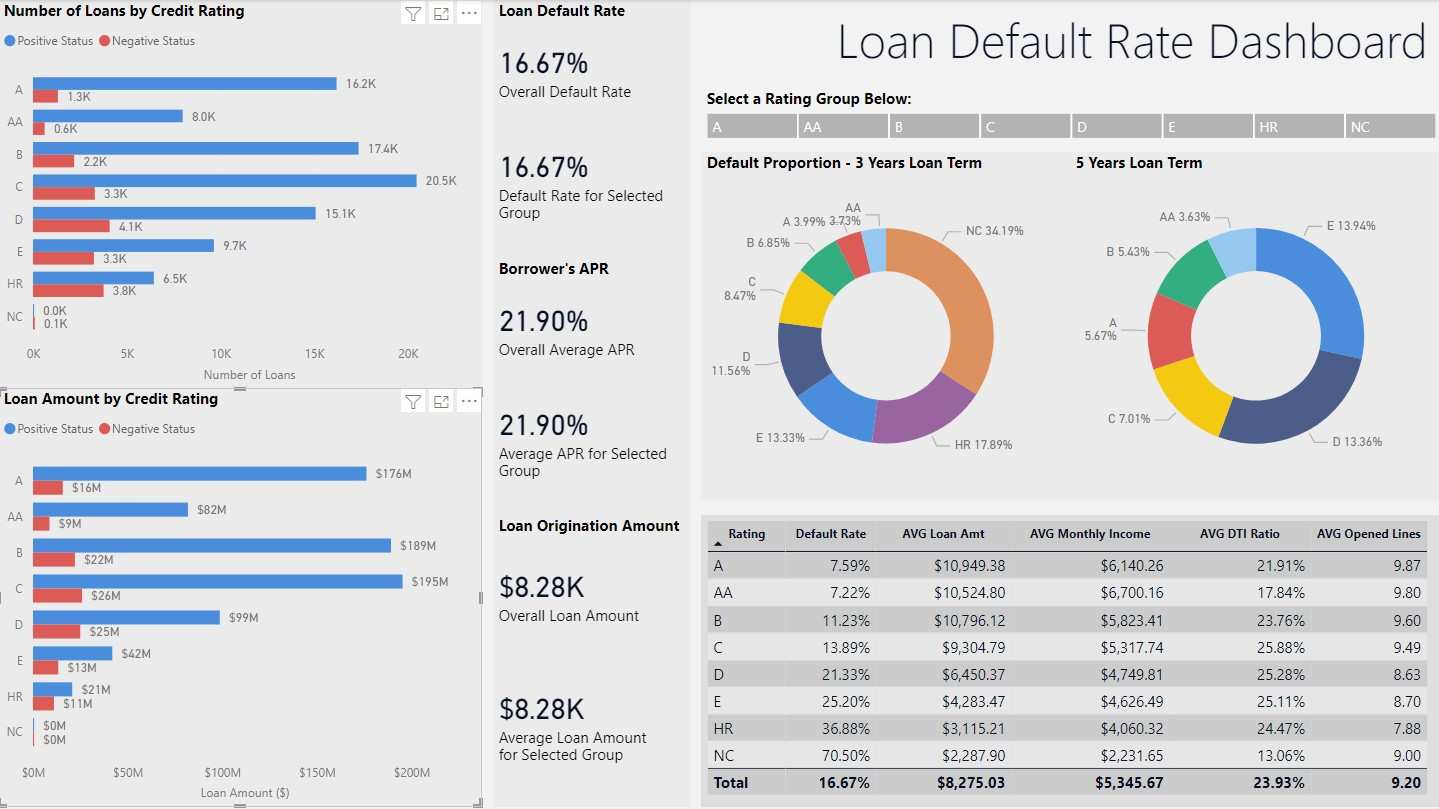

Layout of this report page (visuals, bound fields, positions):
{"tool":"powerbi","page":{"name":"Credit Rating","canvas":[1280,720],"ordinal":0},"visuals":[{"type":"clusteredBarChart","title":"Number of Loans by Credit Rating","fields":{"Category":["prosper_cleaned.ProsperRating"],"Y":["CountNonNull(prosper_cleaned.binary_loan_status)"],"Series":["prosper_cleaned.text_status"]},"box":[0,0,429.1,344.1],"z":0},{"type":"clusteredBarChart","title":"Loan Amount by Credit Rating","fields":{"Category":["prosper_cleaned.ProsperRating"],"Y":["Sum(prosper_cleaned.LoanOriginalAmount)"],"Series":["prosper_cleaned.text_status"]},"box":[0,344.1,429.1,371.4],"z":1000},{"type":"PBI_CV_7B952816_A48F_49B4_9E13_15E3BB2C0337","title":"Loan Default Rate","fields":{"target":["prosper_cleaned.Total Default Rate"],"Values":["prosper_cleaned.Total Default Rate","Avg(prosper_cleaned.binary_loan_status)"],"states":["prosper_cleaned.Total Default Rate"]},"box":[438.6,0,175.2,228.7],"z":2000},{"type":"PBI_CV_7B952816_A48F_49B4_9E13_15E3BB2C0337","title":"Borrower''s APR","fields":{"Values":["prosper_cleaned.Average APR","Avg(prosper_cleaned.BorrowerAPR)"],"target":["prosper_cleaned.Average APR"],"states":["prosper_cleaned.Average APR"]},"box":[438.6,228.7,175.2,227.7],"z":3000},{"type":"PBI_CV_7B952816_A48F_49B4_9E13_15E3BB2C0337","title":"Loan Origination Amount","fields":{"Values":["prosper_cleaned.Overall Loan Amount","Avg(prosper_cleaned.LoanOriginalAmount)"],"target":["prosper_cleaned.Overall Loan Amount"],"states":["prosper_cleaned.Overall Loan Amount"]},"box":[438.6,456.4,175.2,259.1],"z":4000},{"type":"tableEx","fields":{"Values":["prosper_cleaned.ProsperRating","Avg(prosper_cleaned.binary_loan_status)","Avg(prosper_cleaned.LoanOriginalAmount)","Avg(prosper_cleaned.StatedMonthlyIncome)","Avg(prosper_cleaned.DebtToIncomeRatio)","Avg(prosper_cleaned.OpenCreditLines)"]},"box":[623.2,456.4,656.8,259.1],"z":5000},{"type":"donutChart","title":"Default Proportion - 3 Years Loan Term","fields":{"Y":["Avg(prosper_cleaned.binary_loan_status)"],"Category":["prosper_cleaned.ProsperRating"]},"box":[623.3,134.8,328.1,309.5],"z":6000},{"type":"donutChart","title":"5 Years Loan Term","fields":{"Y":["Avg(prosper_cleaned.binary_loan_status)"],"Category":["prosper_cleaned.ProsperRating"]},"box":[950.5,134.8,329.9,309.5],"z":7000},{"type":"treemap","title":"Select a Rating Group Below:","fields":{"Group":["prosper_cleaned.ProsperRating"],"Values":["prosper_cleaned.Overall Average APR"]},"box":[623.3,78,657,49.7],"z":8000},{"type":"textbox","box":[623.2,0,649.4,77.6],"z":11000}]}

Visuals, with their boxes in screenshot pixels (x1, y1, x2, y2), scaled from the page's 1280x720 canvas onto the 1439x809 screenshot:
"Number of Loans by Credit Rating" clusteredBarChart: region(0, 0, 482, 387)
"Loan Amount by Credit Rating" clusteredBarChart: region(0, 387, 482, 804)
"Loan Default Rate" PBI_CV_7B952816_A48F_49B4_9E13_15E3BB2C0337: region(493, 0, 690, 257)
"Borrower''s APR" PBI_CV_7B952816_A48F_49B4_9E13_15E3BB2C0337: region(493, 257, 690, 513)
"Loan Origination Amount" PBI_CV_7B952816_A48F_49B4_9E13_15E3BB2C0337: region(493, 513, 690, 804)
tableEx - prosper_cleaned.ProsperRating x Avg(prosper_cleaned.binary_loan_status): region(701, 513, 1438, 804)
"Default Proportion - 3 Years Loan Term" donutChart: region(701, 151, 1070, 499)
"5 Years Loan Term" donutChart: region(1069, 151, 1438, 499)
"Select a Rating Group Below:" treemap: region(701, 88, 1438, 143)
textbox: region(701, 0, 1431, 87)
